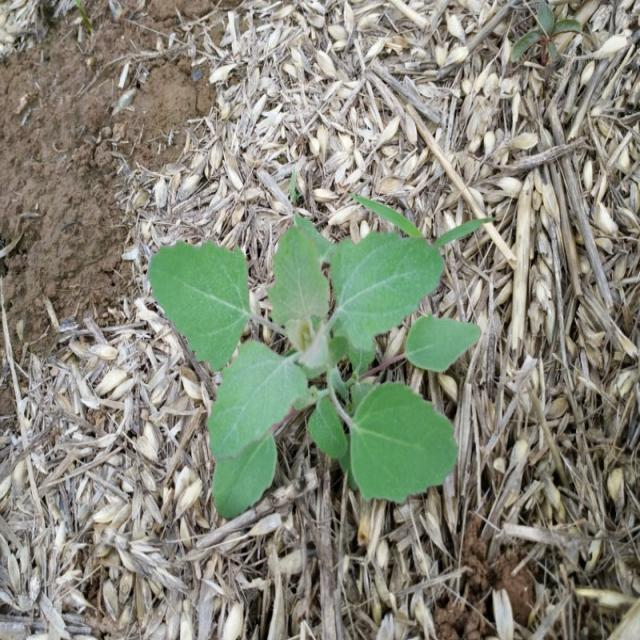goosefoots: (163, 221, 482, 509)
